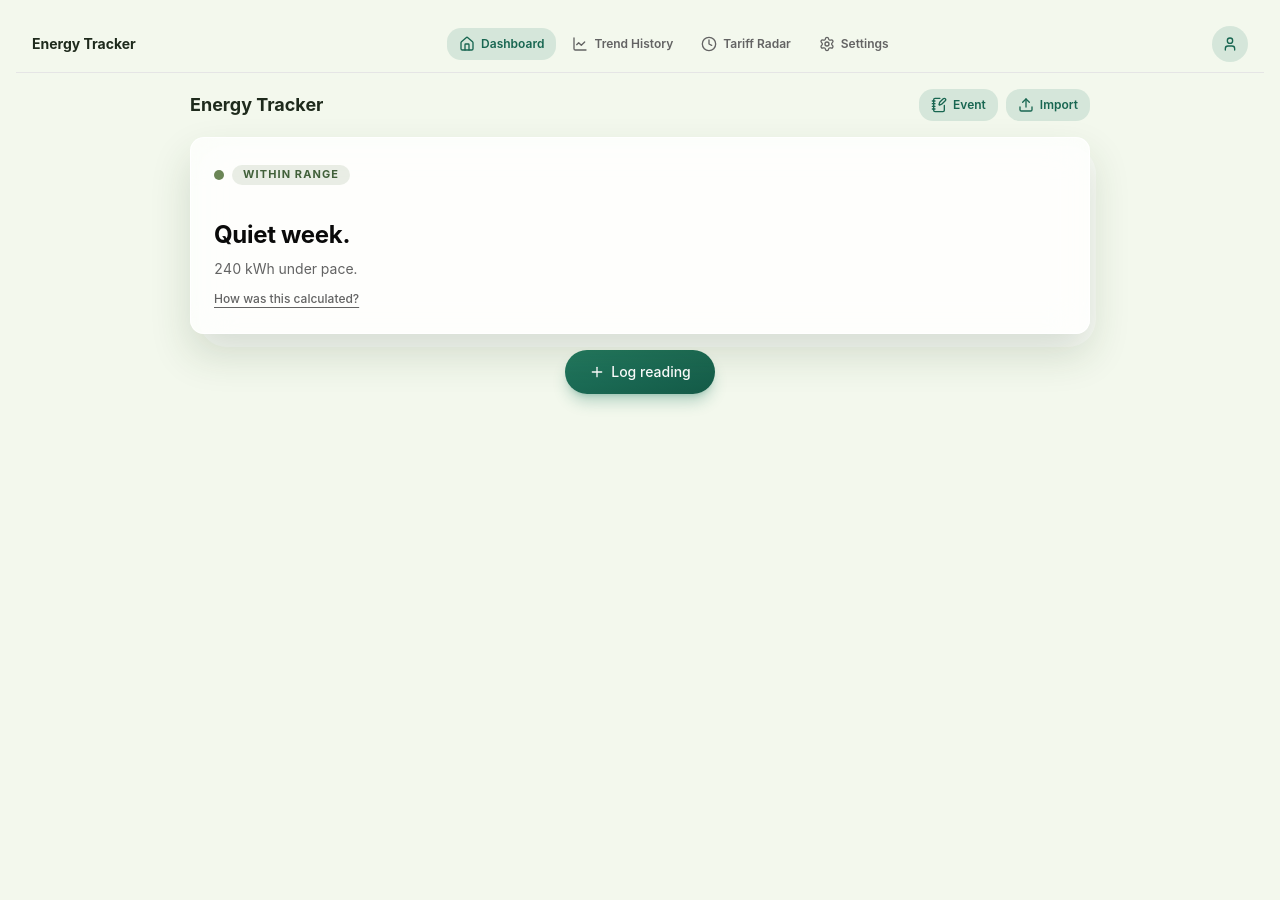
DashboardPage › closes the Status detail dialog when status transitions to null while it is open, and does not silently reopen once status repopulates
This screenshot has width=1280, height=900.
Click the button "How was this calculated?" at (287, 299), box [214,291,359,307]
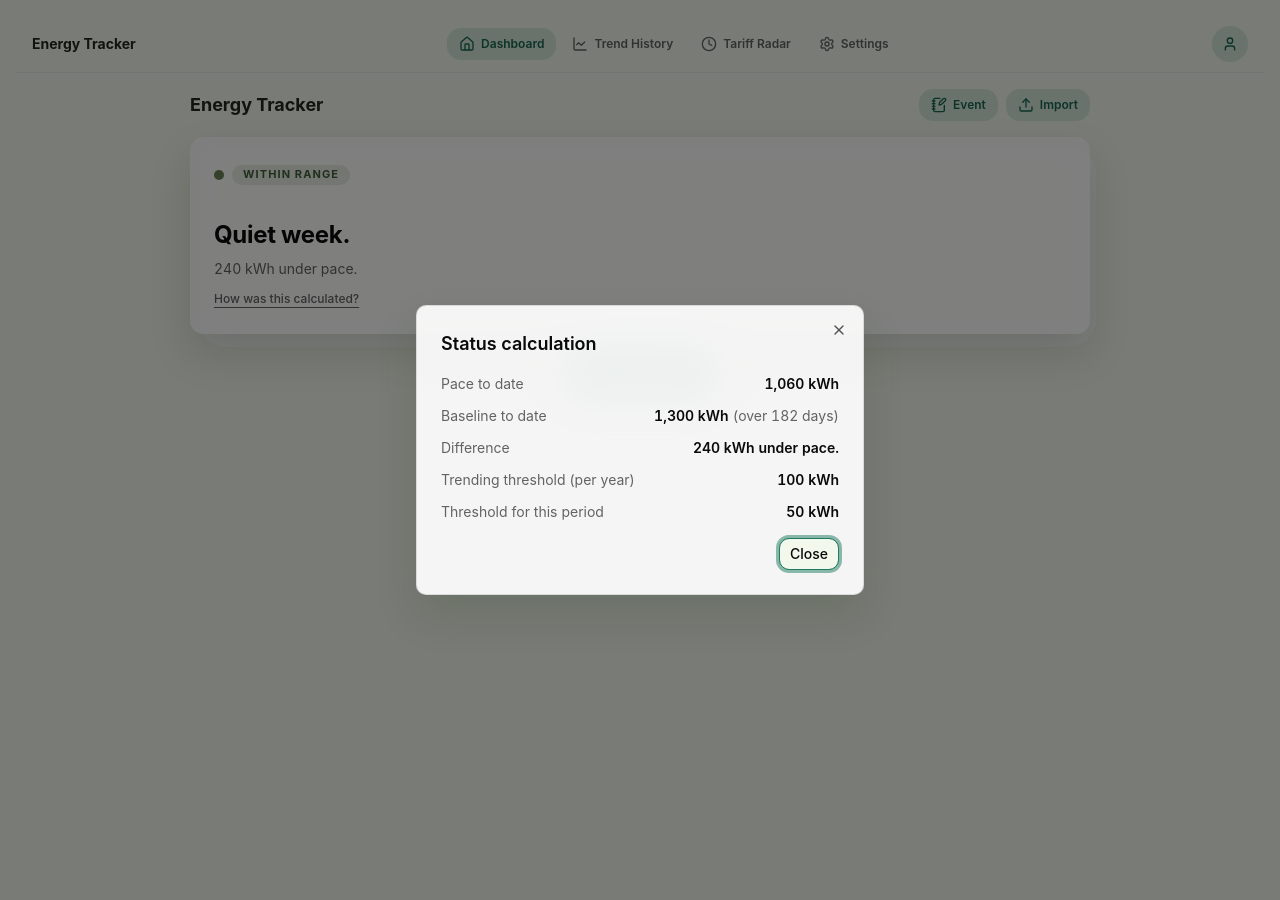
Now the heading "Status calculation" is shown, box [441,333,597,354]
